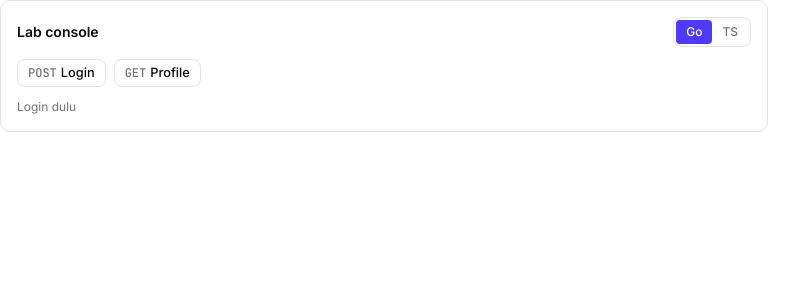
Test case: LabConsole › replaces {{accessToken}} with the access_token of the latest JSON response, per implementation
Later steps or results of the test are not shown.
Expected: the text "Login dulu" is shown, [17,99,76,114]
Click the button "GET Profile". click: coordinates (157, 73)
box: [114,59,201,87]
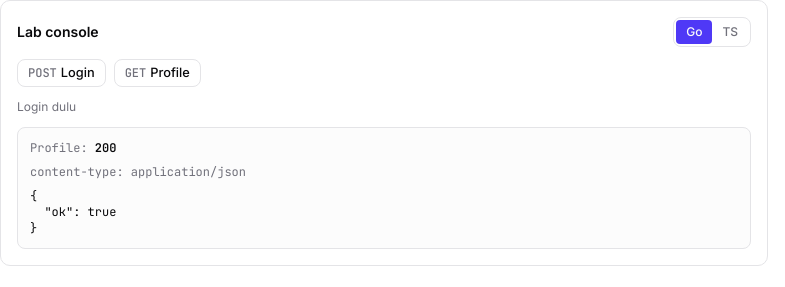
Click the button "POST Login". click: coordinates (61, 73)
box: [17,59,106,87]
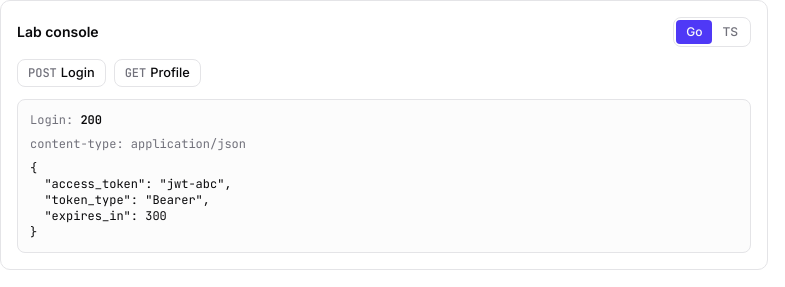
Expected: the text "jwt-abc" is shown, [30,160,232,240]
Expected: the text "Login dulu" is gone
